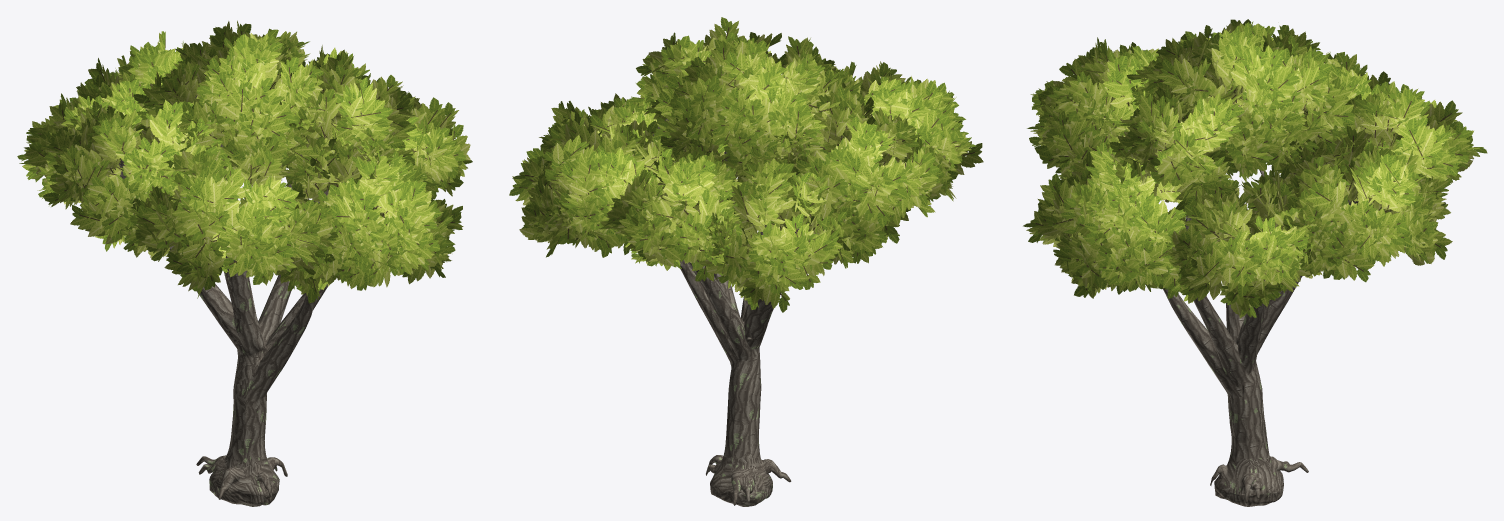
The model's file is environment_elm2_v34.fbx.
The picture shows the model from 3 angles, left to right: view 1: azimuth 30°, elevation 25°; view 2: azimuth 150°, elevation 25°; view 3: azimuth 270°, elevation 25°; orthographic projection. The views are drawn at different scales.
Visible parts, largest first — view 1: environment_elm2_v34_lod0; view 2: environment_elm2_v34_lod0; view 3: environment_elm2_v34_lod0.
Boxes of the visible parts, x1=… form: environment_elm2_v34_lod0: x1=17, y1=20, x2=472, y2=506; environment_elm2_v34_lod0: x1=509, y1=17, x2=983, y2=506; environment_elm2_v34_lod0: x1=1023, y1=19, x2=1487, y2=506.
Size of what is drawn, in the model's own units: 2309 by 2537 by 2293.
Materials: 2 (2 with a texture image).
